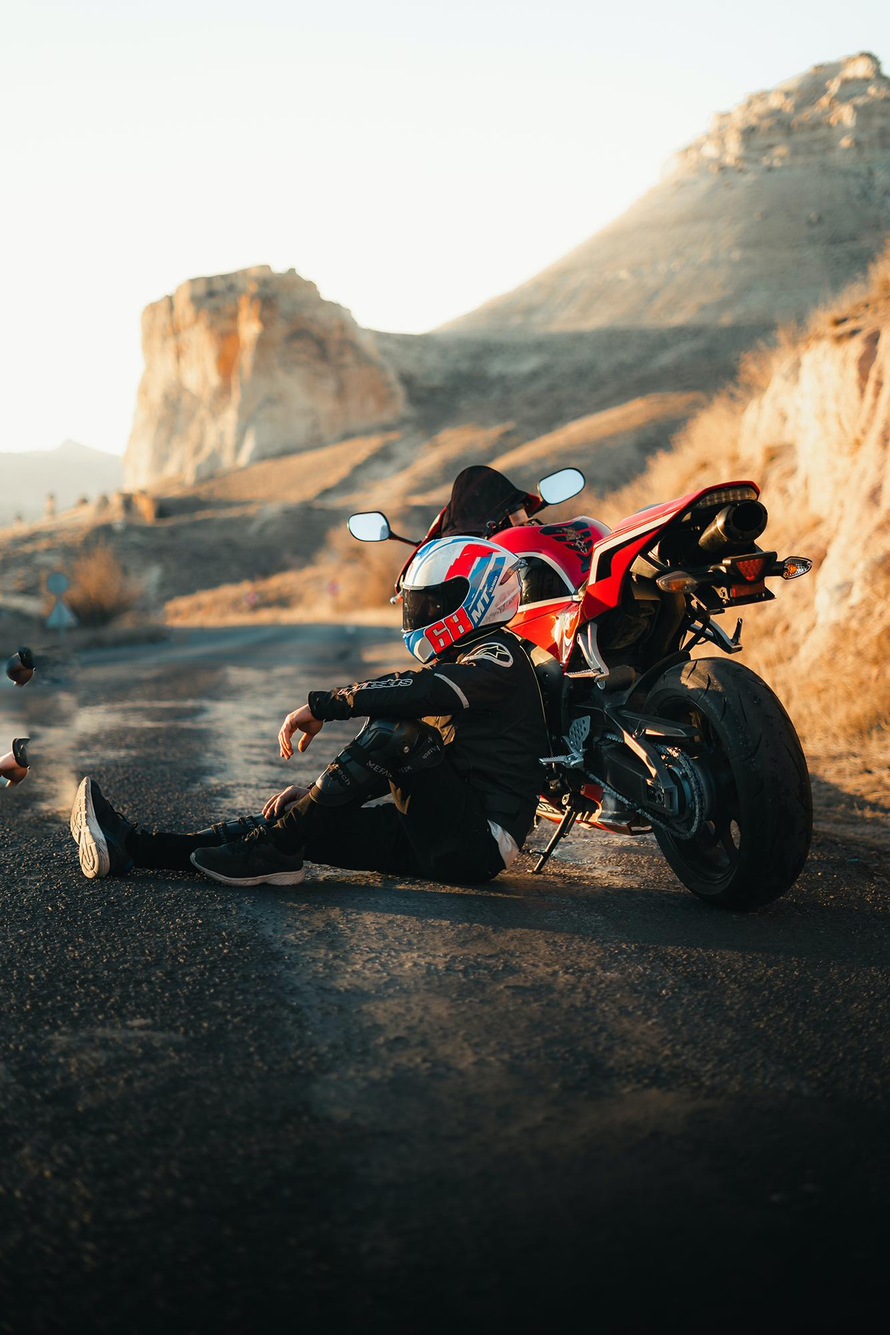helmet: (400, 534, 528, 666)
